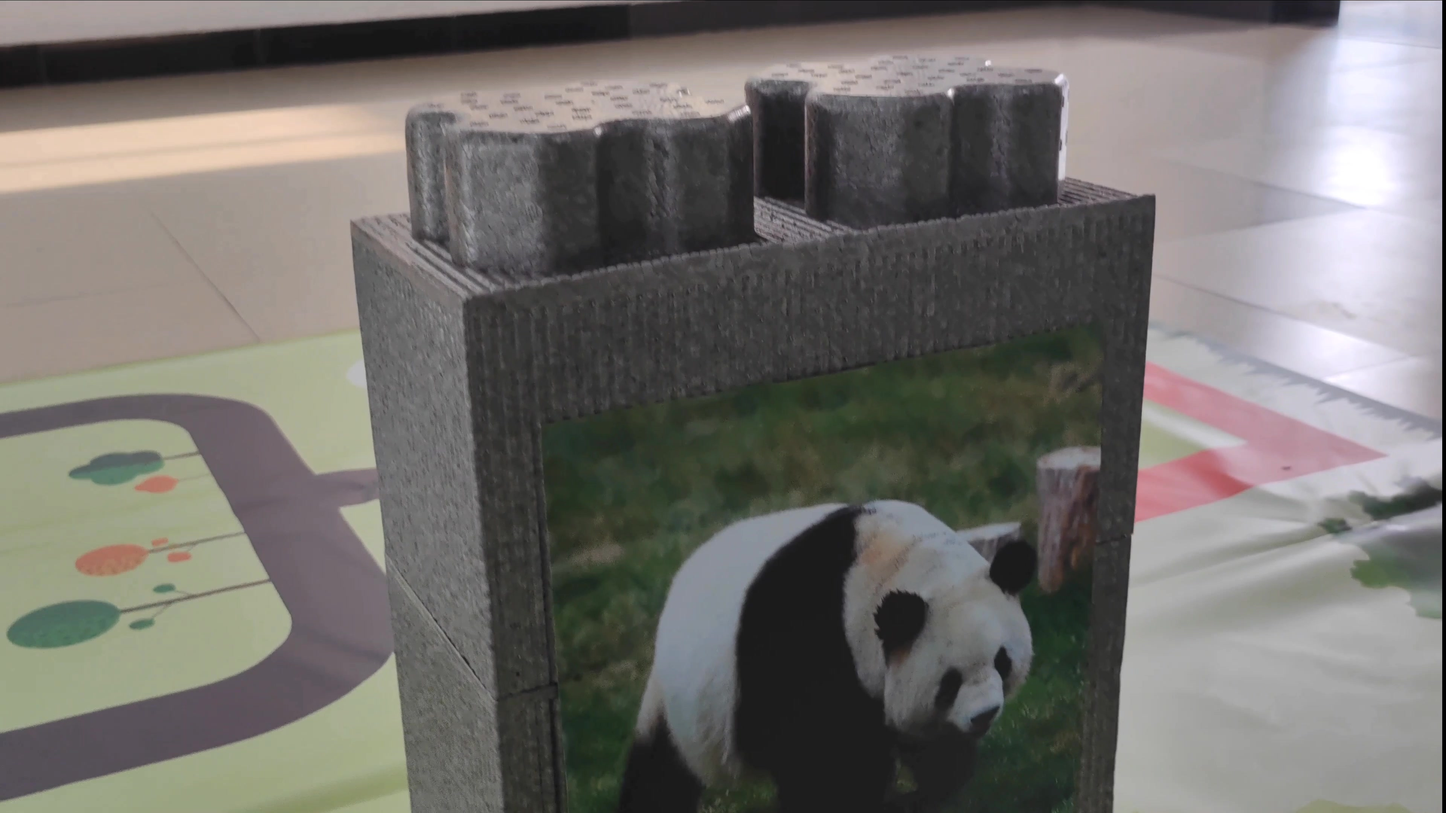panda: (603, 358, 1081, 799)
